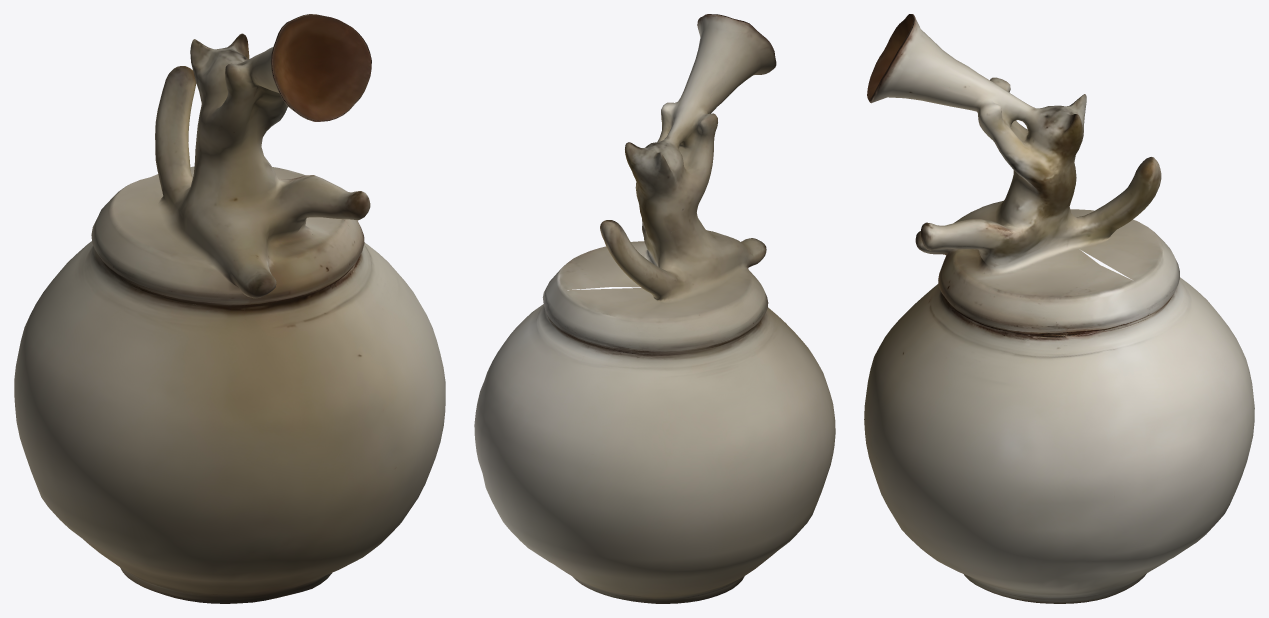
The model's file is 小猫陶瓷罐.glb.
3 renders of one model, left to right at view 1: azimuth 30°, elevation 25°; view 2: azimuth 150°, elevation 25°; view 3: azimuth 270°, elevation 25°, orthographic. The views are drawn at different scales.
Visible parts, largest first — view 1: b20ec79a_ea87_4f06_89b4_1f19781f8dab; view 2: b20ec79a_ea87_4f06_89b4_1f19781f8dab; view 3: b20ec79a_ea87_4f06_89b4_1f19781f8dab.
Part boxes in pixels (<box>): b20ec79a_ea87_4f06_89b4_1f19781f8dab: <box>14,14,445,603</box>; b20ec79a_ea87_4f06_89b4_1f19781f8dab: <box>474,14,835,603</box>; b20ec79a_ea87_4f06_89b4_1f19781f8dab: <box>864,14,1254,603</box>.
Bounding box in the file's own units: 0.646 × 0.9995 × 0.6548.
Materials: 1 (1 with a texture image).
